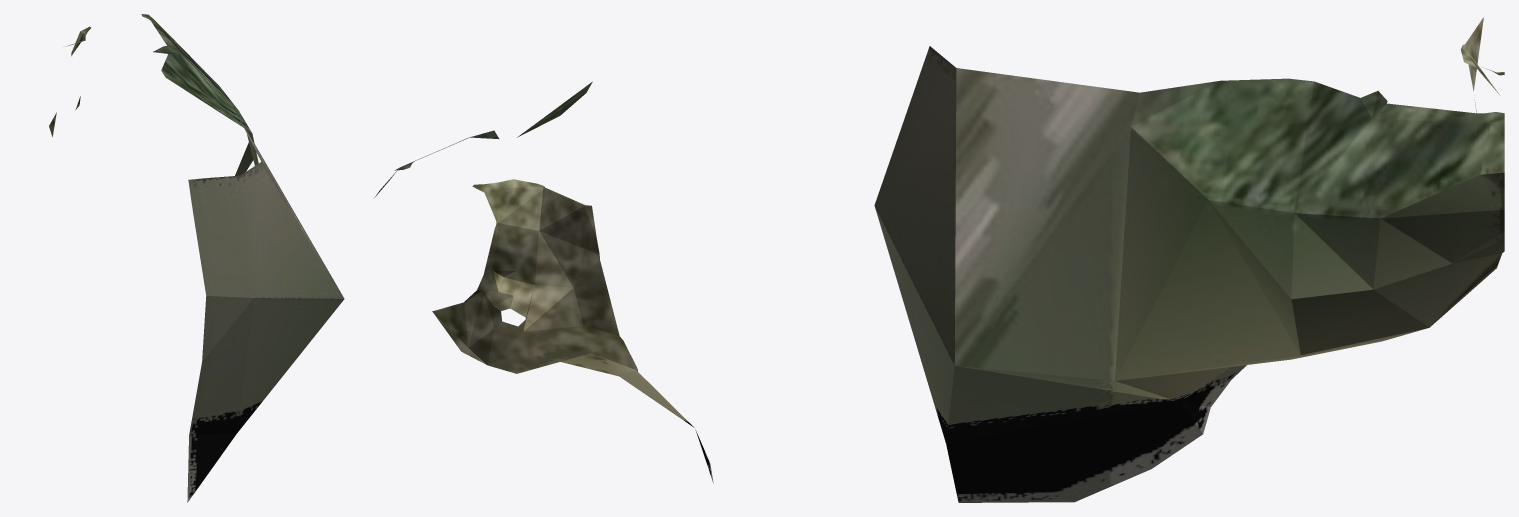
3 views of the same model, side by side, from view 1: azimuth 30°, elevation 25°; view 2: azimuth 150°, elevation 25°; view 3: azimuth 270°, elevation 25° (orthographic). The views are drawn at different scales.
Bounding box in the file's own units: 2.3 × 3.99 × 4.67.
2 materials, 2 textured.
